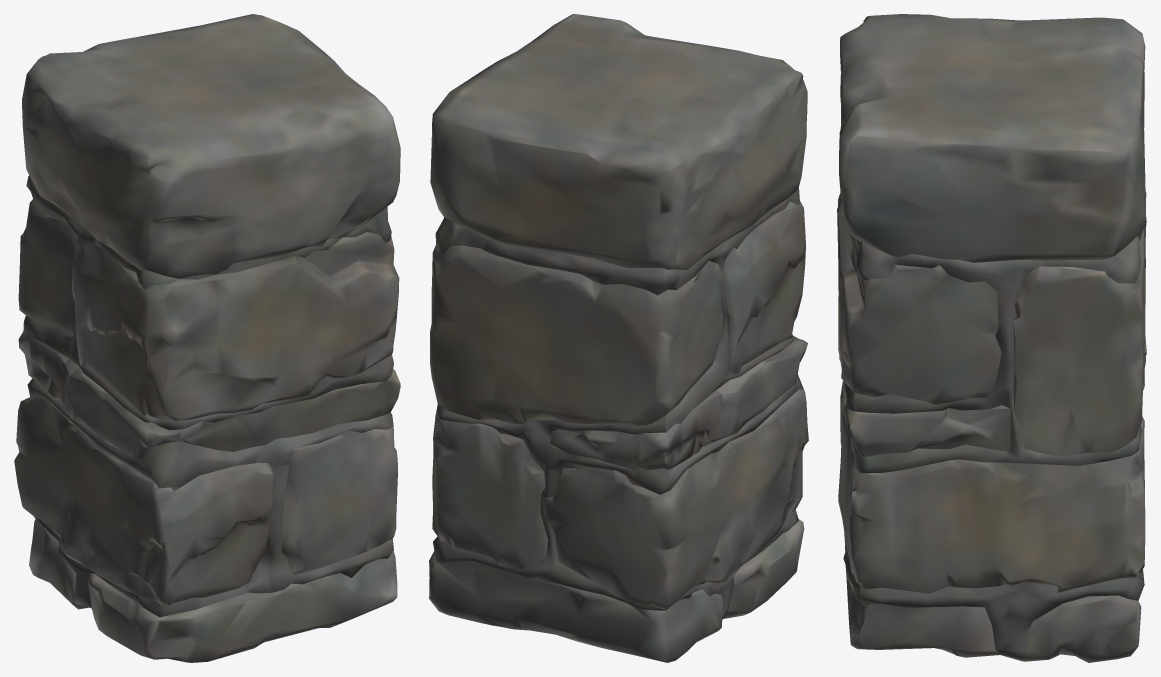
File: Floor_Quarter_Stone_C.glb
3 renders of one model, left to right at view 1: azimuth 30°, elevation 25°; view 2: azimuth 150°, elevation 25°; view 3: azimuth 270°, elevation 25°, orthographic. The views are drawn at different scales.
Parts seen in each view (by area): view 1: SM_Stone_FloorQuarter; view 2: SM_Stone_FloorQuarter; view 3: SM_Stone_FloorQuarter.
Part boxes in pixels (bbox=[...]): SM_Stone_FloorQuarter: bbox=[14, 14, 400, 662]; SM_Stone_FloorQuarter: bbox=[429, 14, 808, 662]; SM_Stone_FloorQuarter: bbox=[837, 14, 1146, 662].
Size of the model in its own units: 1.65 by 3.12 by 1.63.
1 material, 1 textured.
